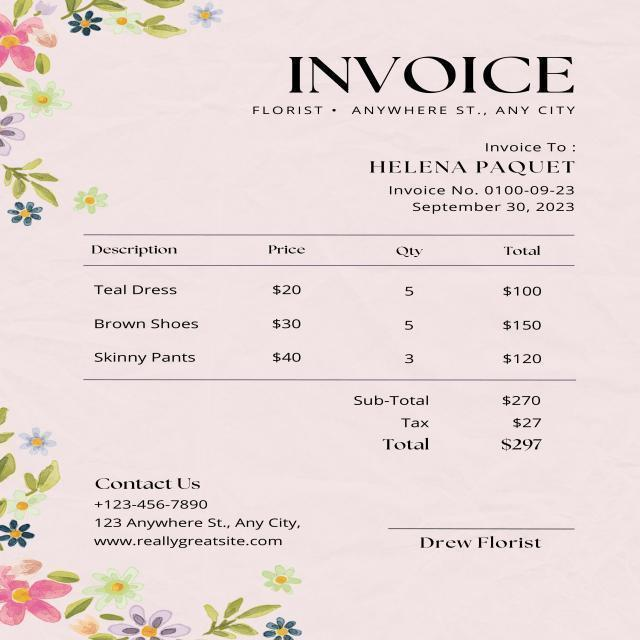paragraph: (245, 48, 582, 121), (361, 134, 583, 218), (85, 469, 309, 552), (347, 382, 558, 459), (413, 528, 545, 559)
table: (84, 234, 560, 376)
